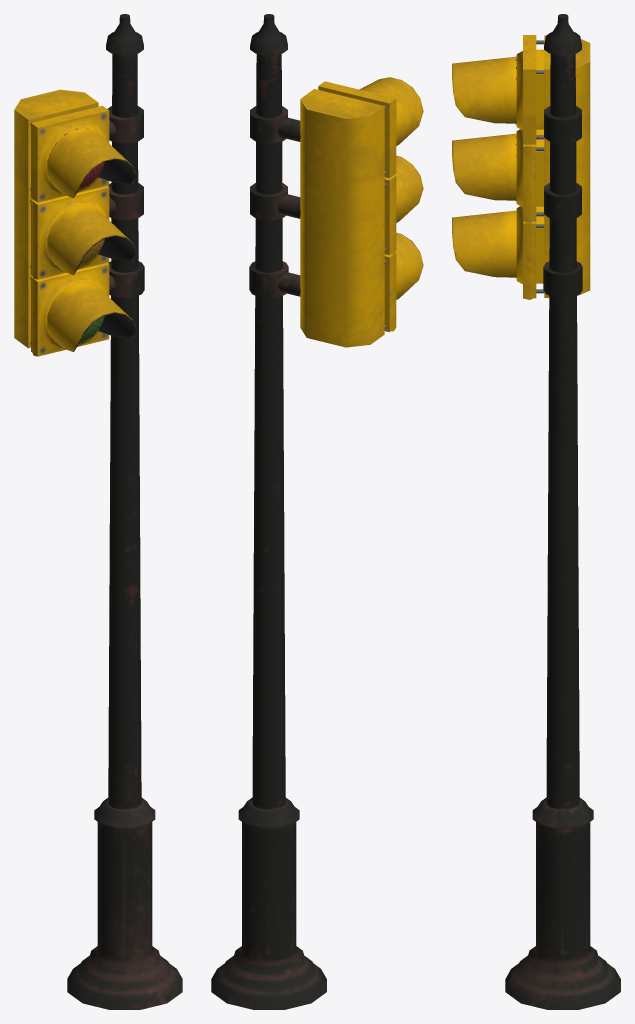
File: tfl.fbx
3 views of the same model, side by side, from view 1: azimuth 30°, elevation 25°; view 2: azimuth 150°, elevation 25°; view 3: azimuth 270°, elevation 25° (orthographic).
Visible parts, largest first — view 1: metal street props low poly.011; view 2: metal street props low poly.011; view 3: metal street props low poly.011.
Part boxes in pixels (left/top/right/bottom): metal street props low poly.011: left=14, top=14, right=182, bottom=1009; metal street props low poly.011: left=211, top=14, right=423, bottom=1009; metal street props low poly.011: left=452, top=14, right=620, bottom=1009.
Size of the model in its own units: 0.6066 by 3.55 by 0.5602.
Materials: 1 (1 with a texture image).
